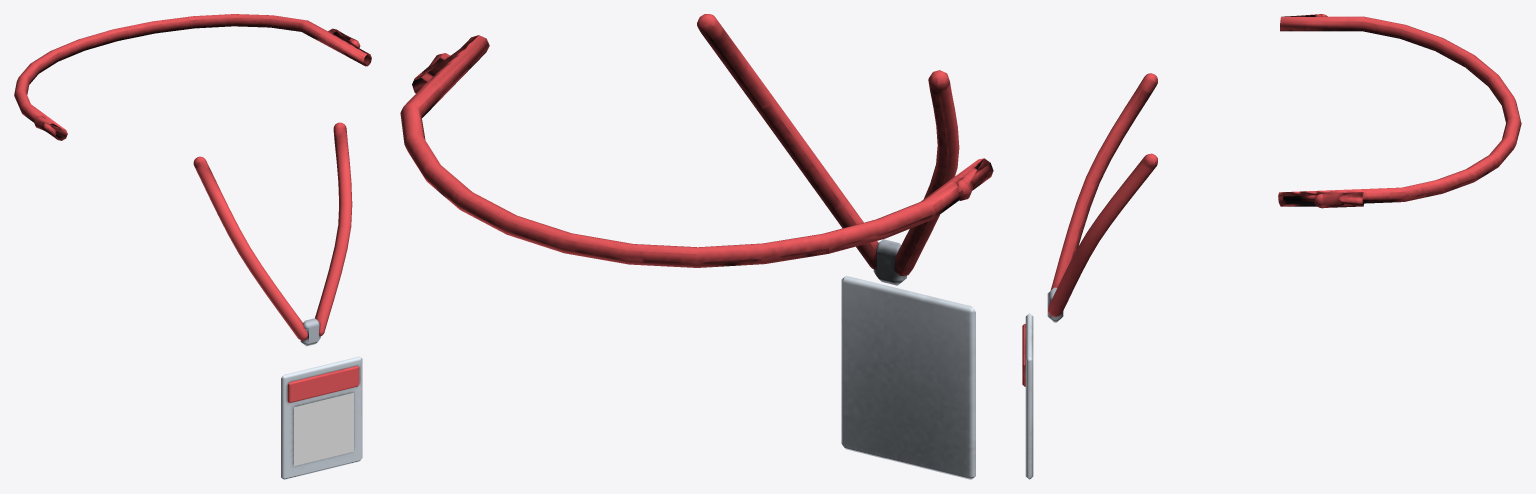
Rendered from lanyard_badge.glb.
The picture shows the model from 3 angles, left to right: view 1: azimuth 30°, elevation 25°; view 2: azimuth 150°, elevation 25°; view 3: azimuth 270°, elevation 25°; orthographic projection. The views are drawn at different scales.
Visible parts, largest first — view 1: lanyard_badge; view 2: lanyard_badge; view 3: lanyard_badge.
Part boxes in pixels (box(x1,y1,x2,y2)): lanyard_badge: box(14, 14, 371, 479); lanyard_badge: box(400, 14, 993, 479); lanyard_badge: box(1022, 14, 1521, 479).
Size of the model in its own units: 0.3395 by 0.3012 by 0.3848.
4 materials, 3 textured.
